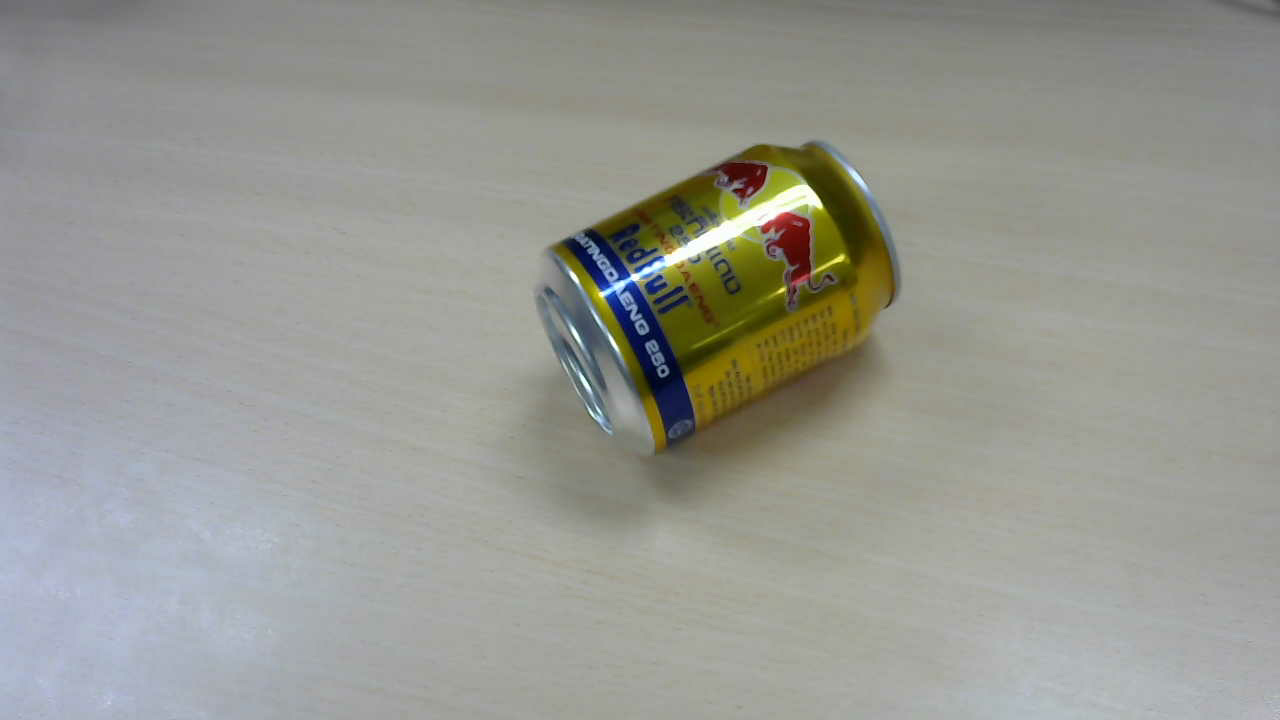Red_Bull: (540, 138, 905, 456)
